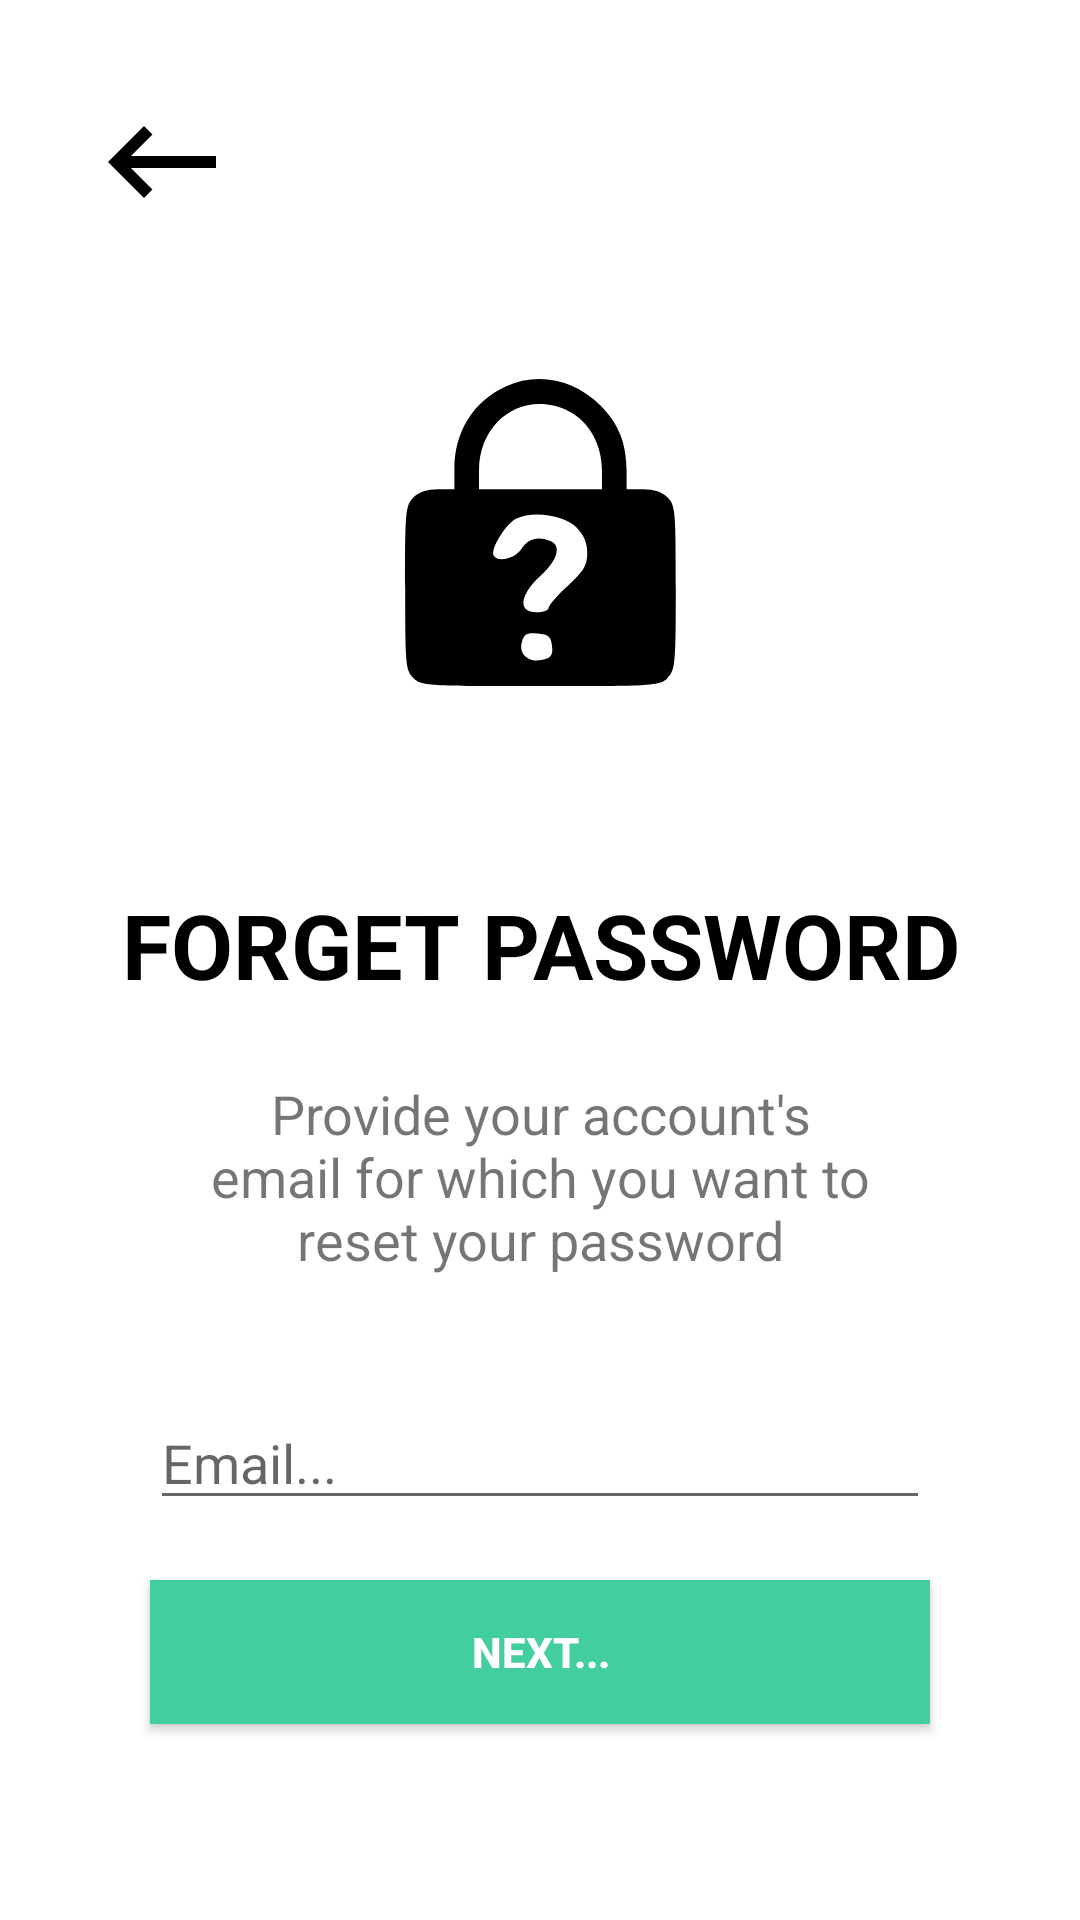

Where to tap for icons on this 1080 x 1920 app screen, as point (x, y):
back: point (162, 162)
forgot password: point (540, 532)
